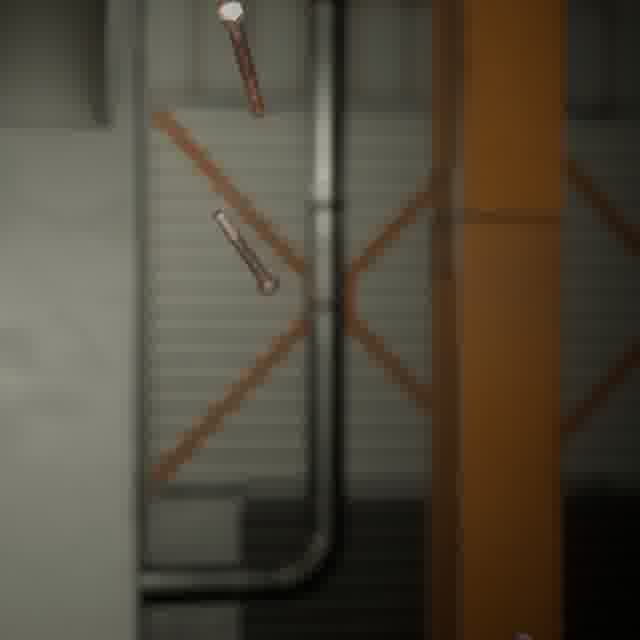bolt: (208, 205, 284, 300), (212, 0, 269, 122)
